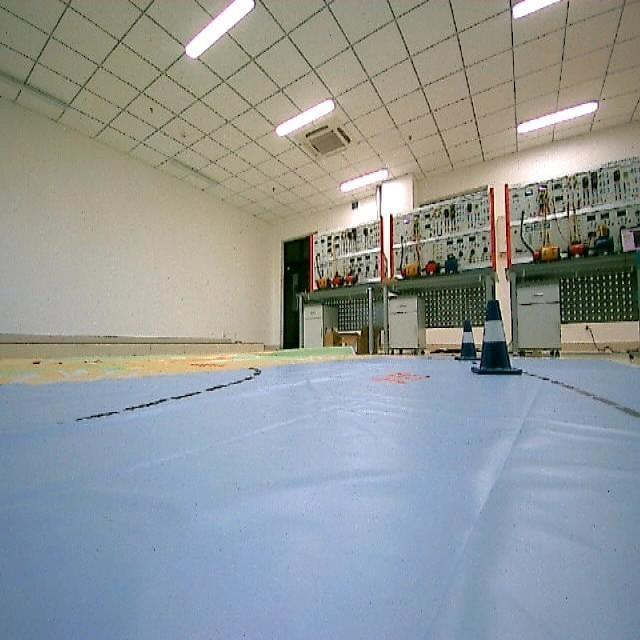obstacle: (480, 302, 521, 377), (452, 322, 480, 362)
